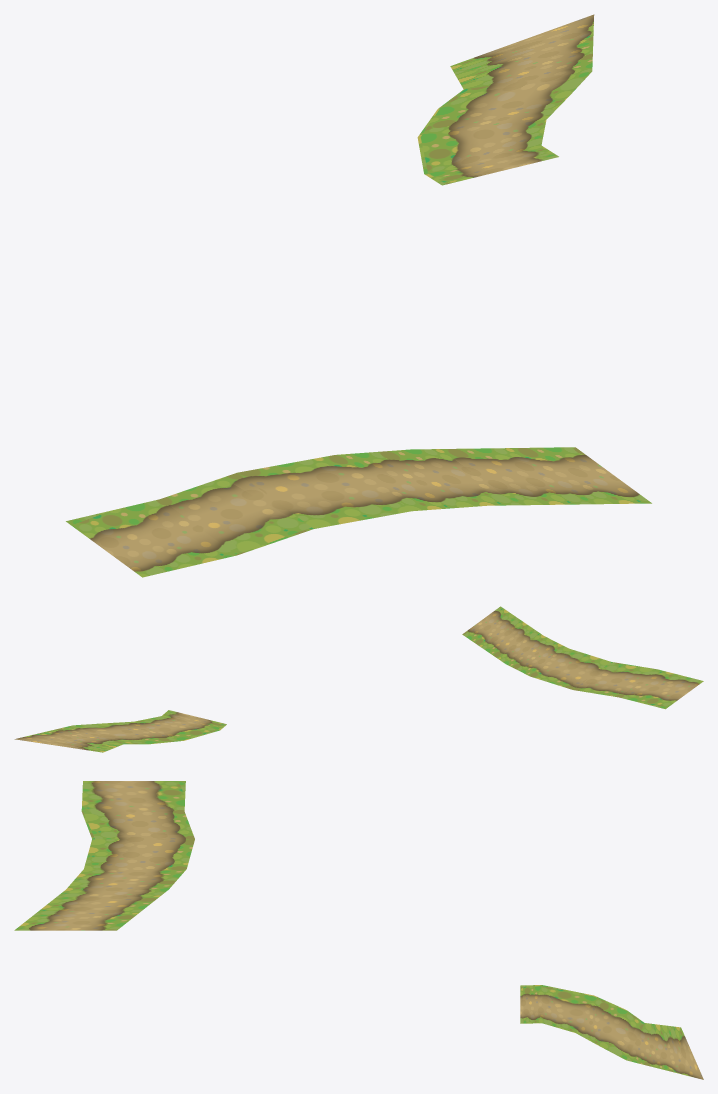
3 renders of one model, top to bottom at view 1: azimuth 30°, elevation 25°; view 2: azimuth 150°, elevation 25°; view 3: azimuth 270°, elevation 25°, orthographic. The views are drawn at different scales.
Parts seen in each view (by area): view 1: Deko_2x3 suburb O; view 2: Deko_2x3 suburb O; view 3: Deko_2x3 suburb O.
Boxes of the visible parts, box(x1,y1,x2,y2) form: Deko_2x3 suburb O: box(66, 14, 651, 577); Deko_2x3 suburb O: box(14, 606, 703, 752); Deko_2x3 suburb O: box(14, 781, 703, 1079).
Size of the model in its own units: 15.6 by 0 by 15.22.
Materials: 1 (1 with a texture image).
